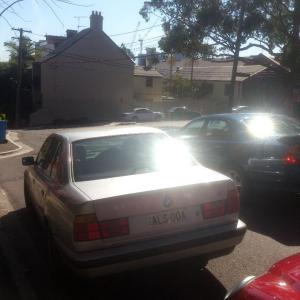Vehicle-registration-plate: (147, 208, 188, 227)
